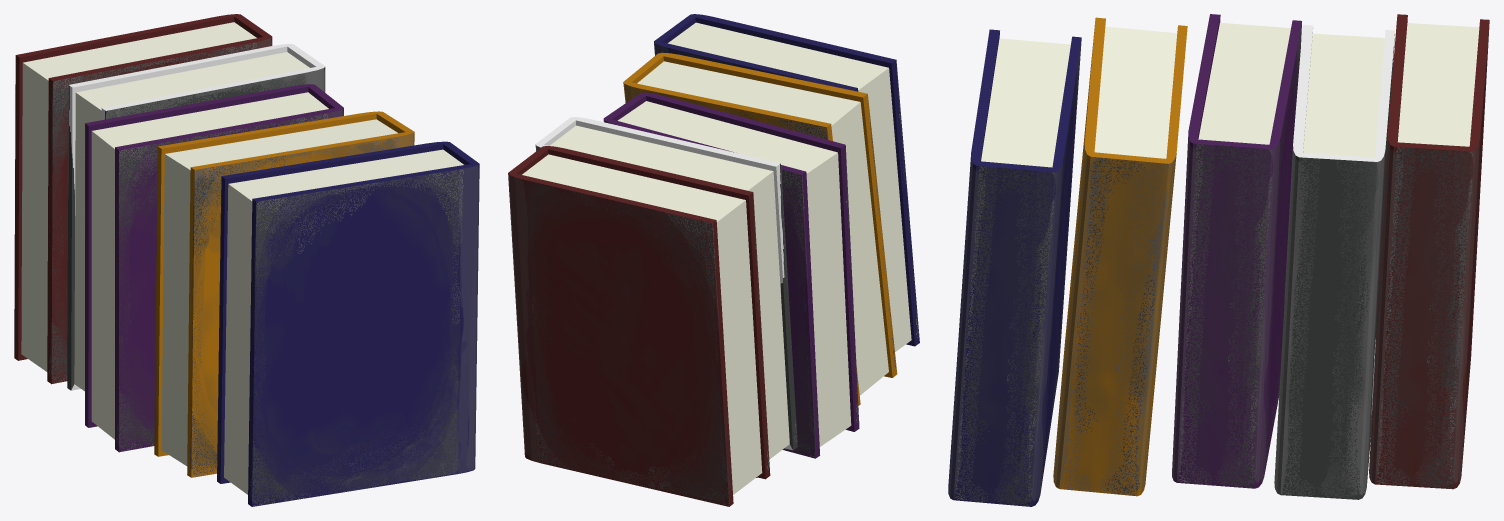
Rendered from Stack-1.fbx.
The picture shows the model from 3 angles, left to right: view 1: azimuth 30°, elevation 25°; view 2: azimuth 150°, elevation 25°; view 3: azimuth 270°, elevation 25°; orthographic projection. The views are drawn at different scales.
Visible parts, largest first — view 1: Cube.005; view 2: Cube.005; view 3: Cube.005.
Part boxes in pixels (x1,y1,x2,y2): Cube.005: (14,14,479,506); Cube.005: (508,14,919,506); Cube.005: (948,14,1489,506).
Size of the model in its own units: 15.97 by 17.61 by 23.74.
Materials: 10 (5 with a texture image).
